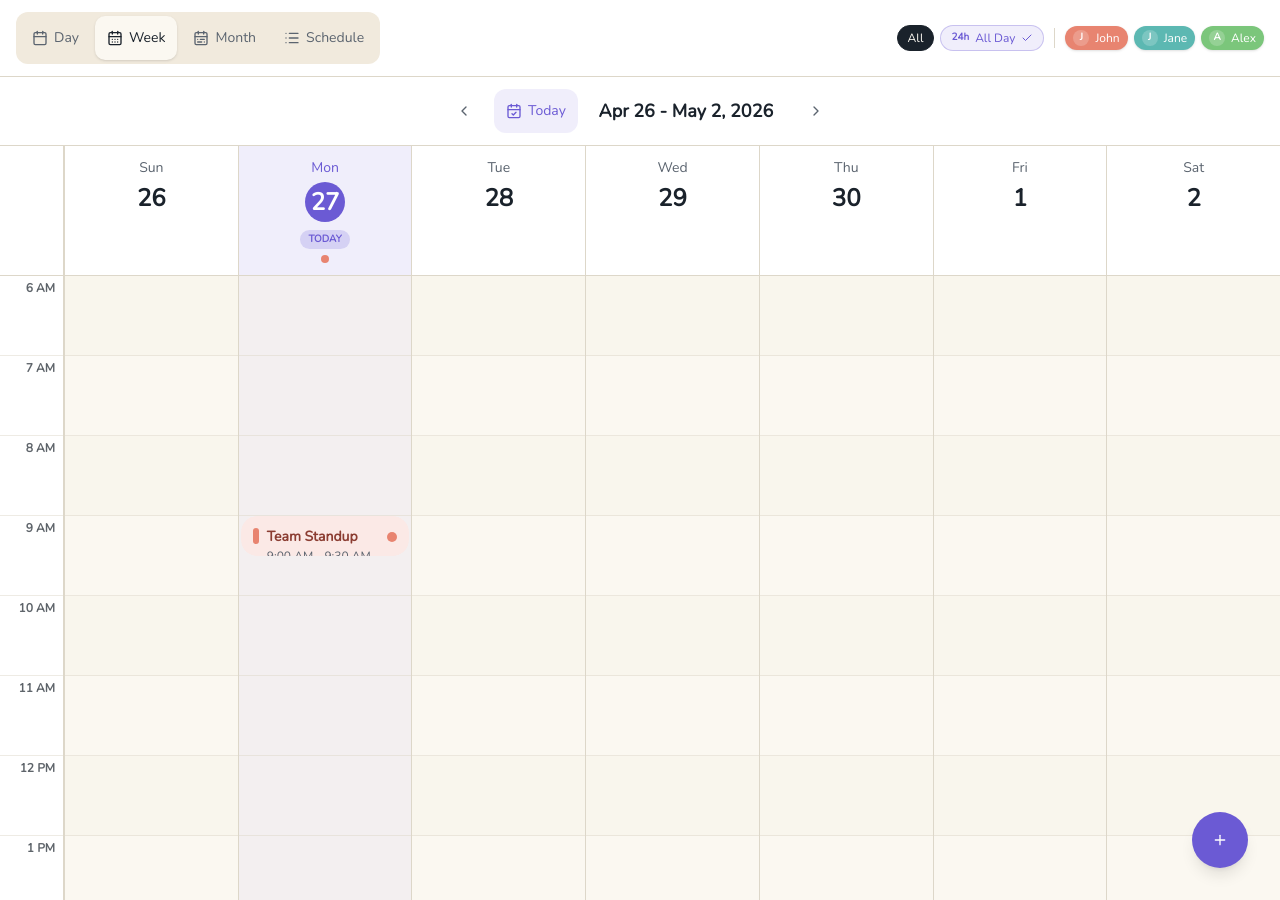
Test: CalendarModule › Event Detail Modal › opens detail modal when event is clicked
// Click the event
Click the heading "Team Standup".
click(312, 536)  # box [267,527,358,546]
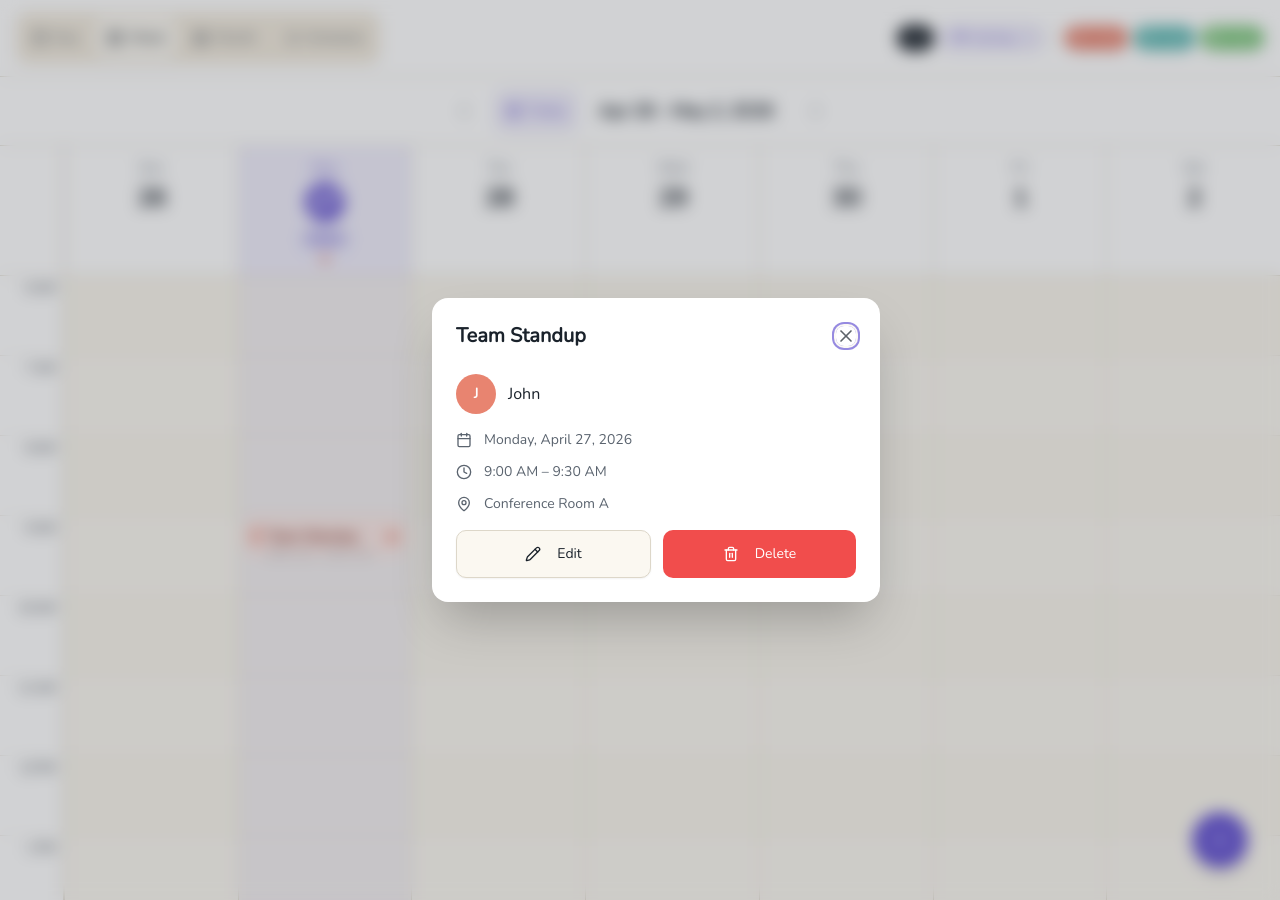
Result: the dialog is shown at [432,298,880,602]
Result: the heading "Team Standup" is shown at [456,322,586,349]
Result: the text "9:00 AM – 9:30 AM" is shown at [484,462,607,482]
